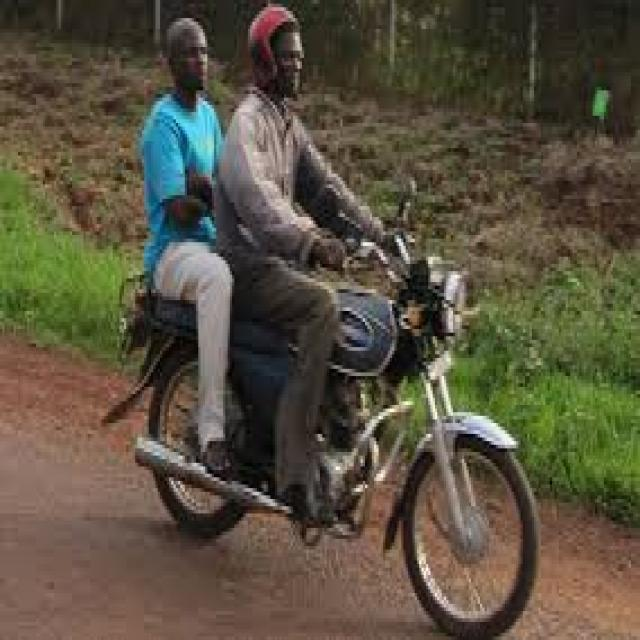bodaboda: (80, 155, 548, 640)
